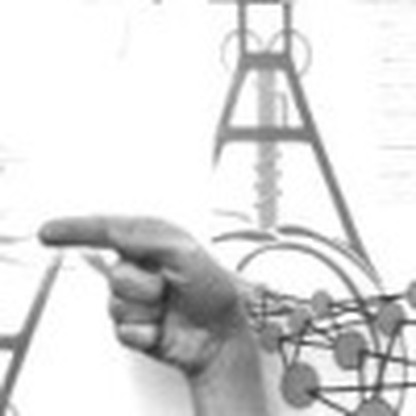g: (33, 207, 239, 372)
